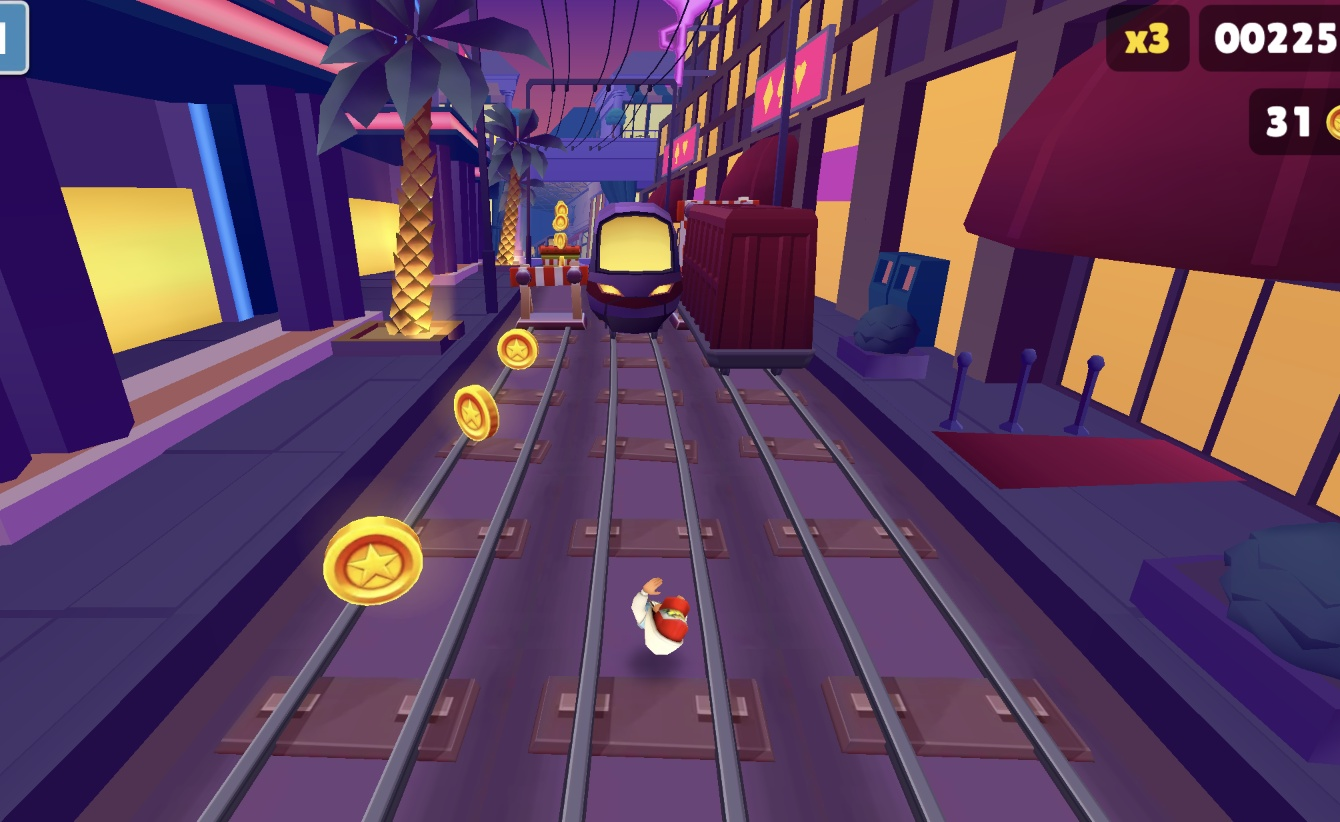ground_barrier: (516, 252, 589, 333), (537, 244, 580, 267)
overhead_barrier: (676, 197, 760, 244)
train: (680, 202, 823, 373), (584, 202, 684, 336)
